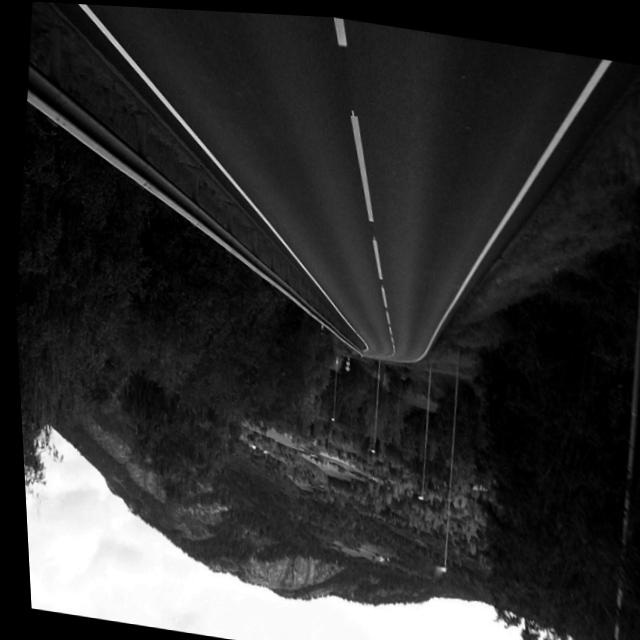cleat: (12, 1, 640, 592), (164, 8, 640, 544)
